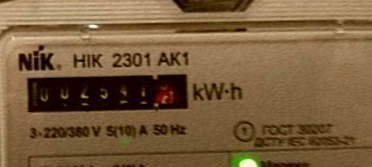0: (38, 82, 51, 103), (59, 79, 71, 101)
1: (138, 79, 149, 99)
2: (79, 80, 91, 100)
4: (119, 79, 131, 100)
5: (98, 79, 110, 101)
6: (160, 91, 171, 106)
screen: (17, 64, 200, 121)
